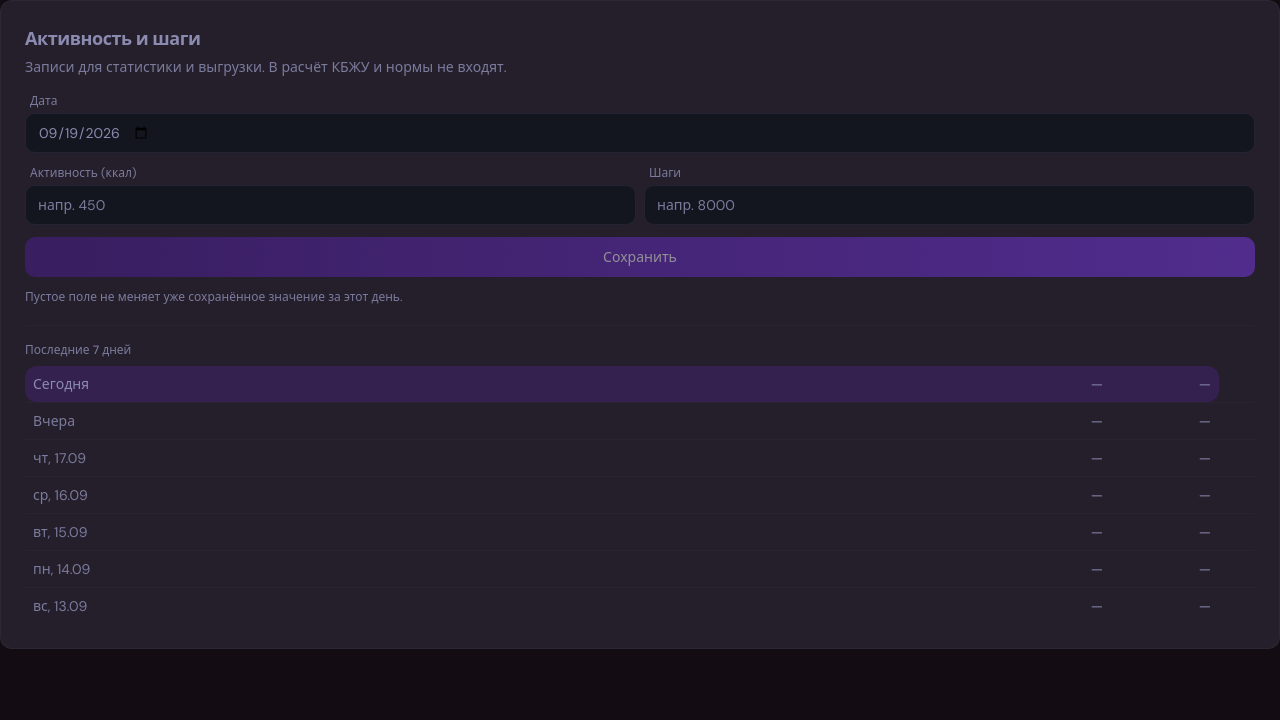
Test: ActivityLogCard › does not offer to save an empty form
Expected: the button "Сохранить" is disabled, [25, 237, 1255, 277]
Type "300" into the number field labelled "Активность (ккал)" at (330, 205), box [25, 185, 636, 225]
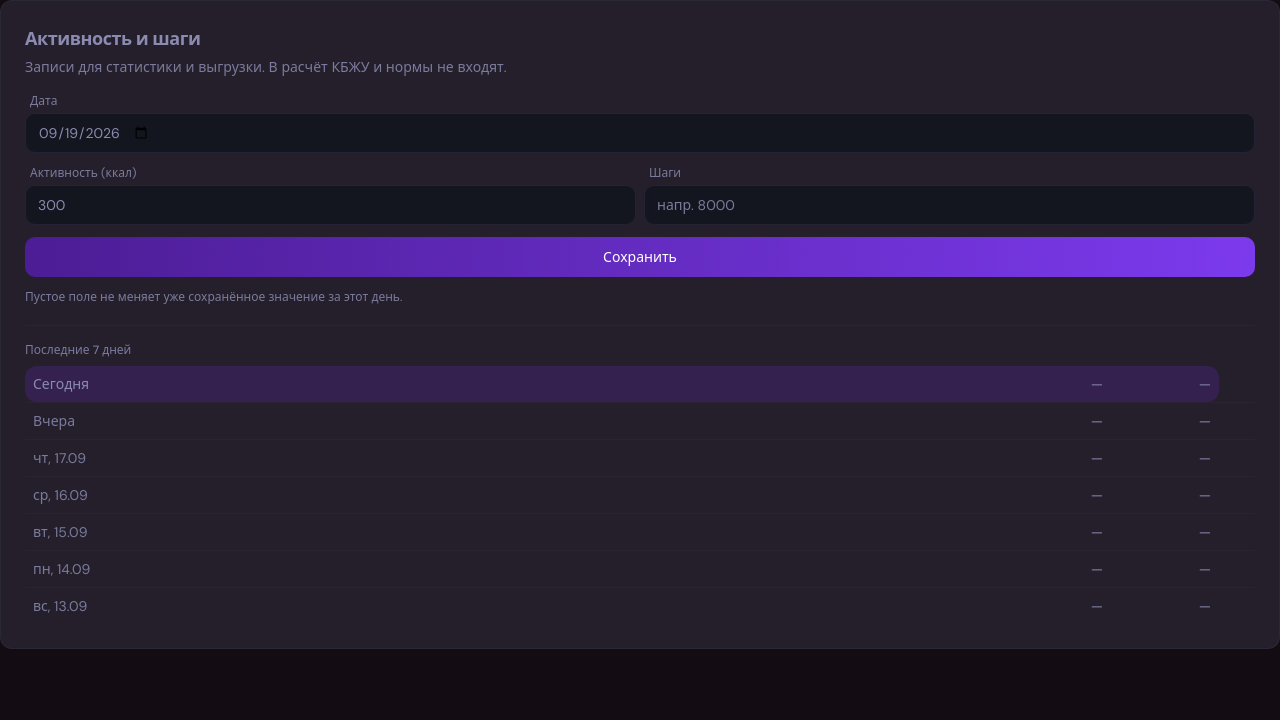
Now the button "Сохранить" is enabled, box [25, 237, 1255, 277]
